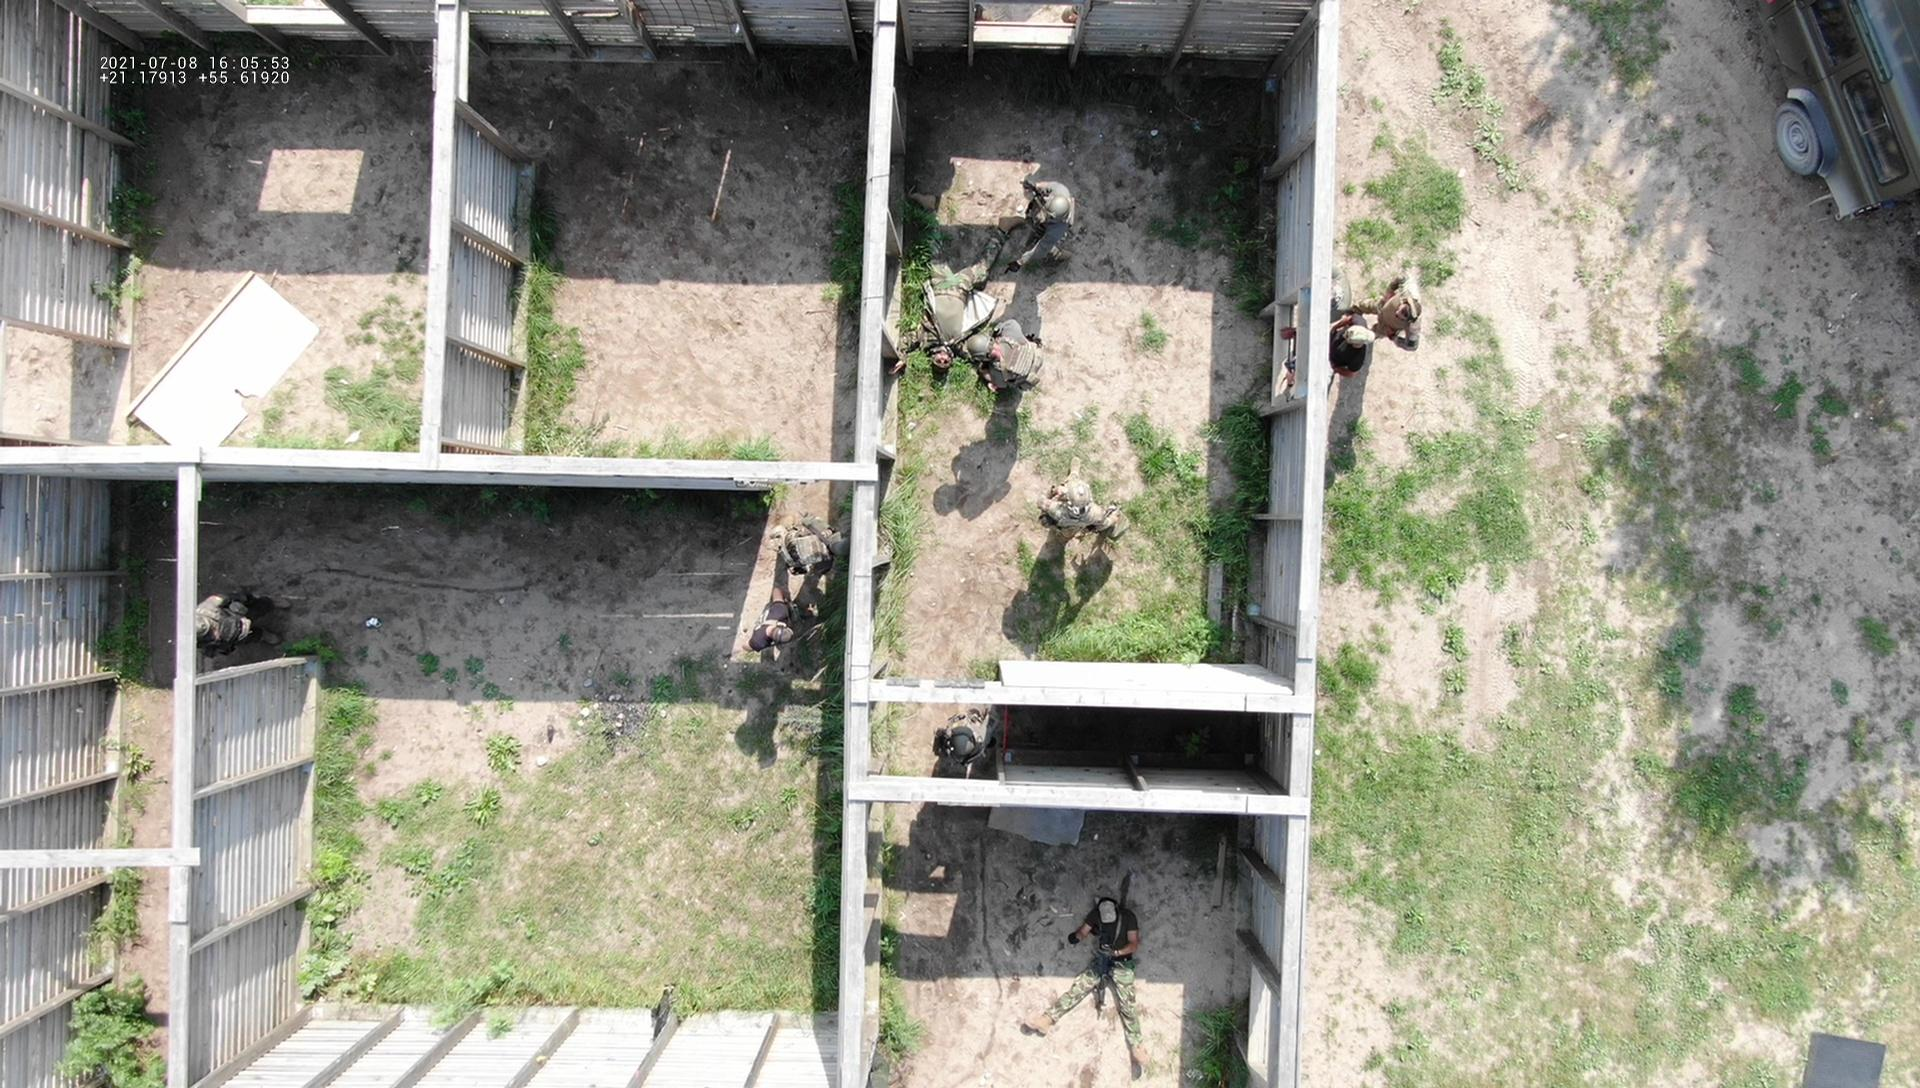Soldier: (1038, 894, 1193, 1062), (889, 193, 994, 381), (1022, 464, 1134, 546), (1007, 185, 1095, 287), (963, 313, 1052, 410), (767, 506, 851, 599), (195, 582, 280, 667), (1367, 273, 1428, 357), (928, 702, 1000, 769)
